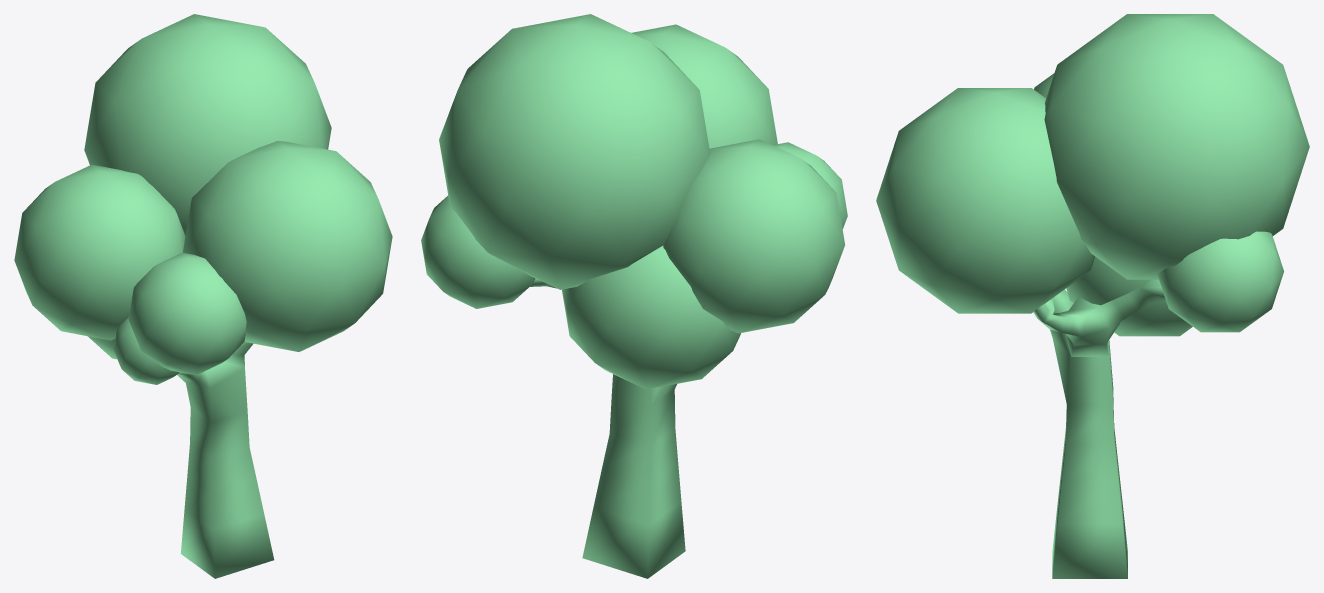
File: 3DObj_Tree_A.fbx
The picture shows the model from 3 angles, left to right: view 1: azimuth 30°, elevation 25°; view 2: azimuth 150°, elevation 25°; view 3: azimuth 270°, elevation 25°; orthographic projection. The views are drawn at different scales.
Parts seen in each view (by area): view 1: 立方体.001; view 2: 立方体.001; view 3: 立方体.001.
Part boxes in pixels (x1,y1,x2,y2): 立方体.001: (14,14,392,578); 立方体.001: (421,14,847,578); 立方体.001: (876,14,1309,578).
Bounding box in the file's own units: 264 × 405 × 286.
